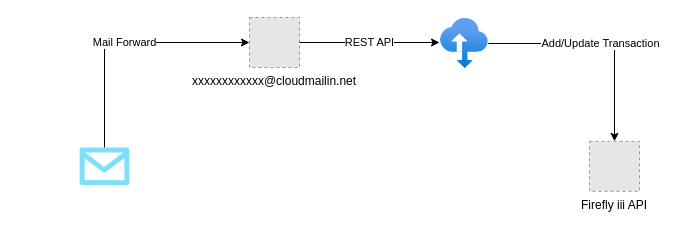
Image size: 676x230. Some labels were removed from this diagram. Grey dashed boxes stand in for pictures. The centre of each missing label's shape, as x and y in pixels:
Curve Receipt: Purchase at XXX: the point at 104,165
https://ha-addon-curve/process: the point at 464,43
